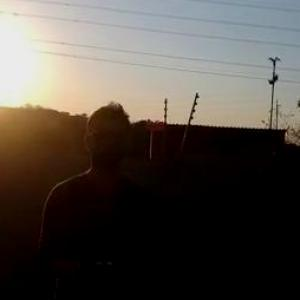follow: (33, 95, 165, 298)
